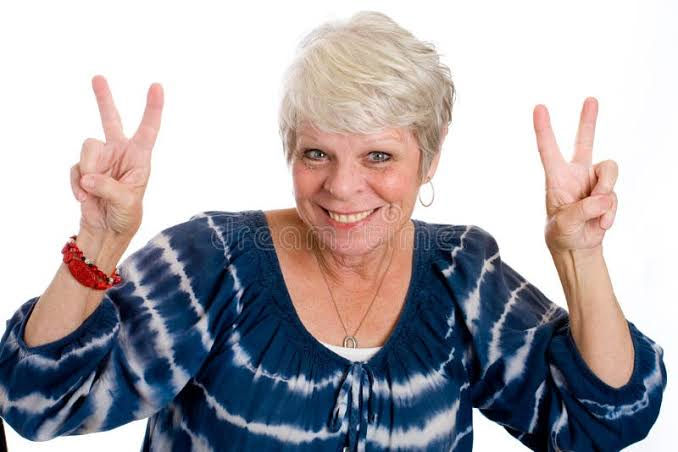peace_sign: (64, 60, 169, 232), (529, 84, 626, 249)
